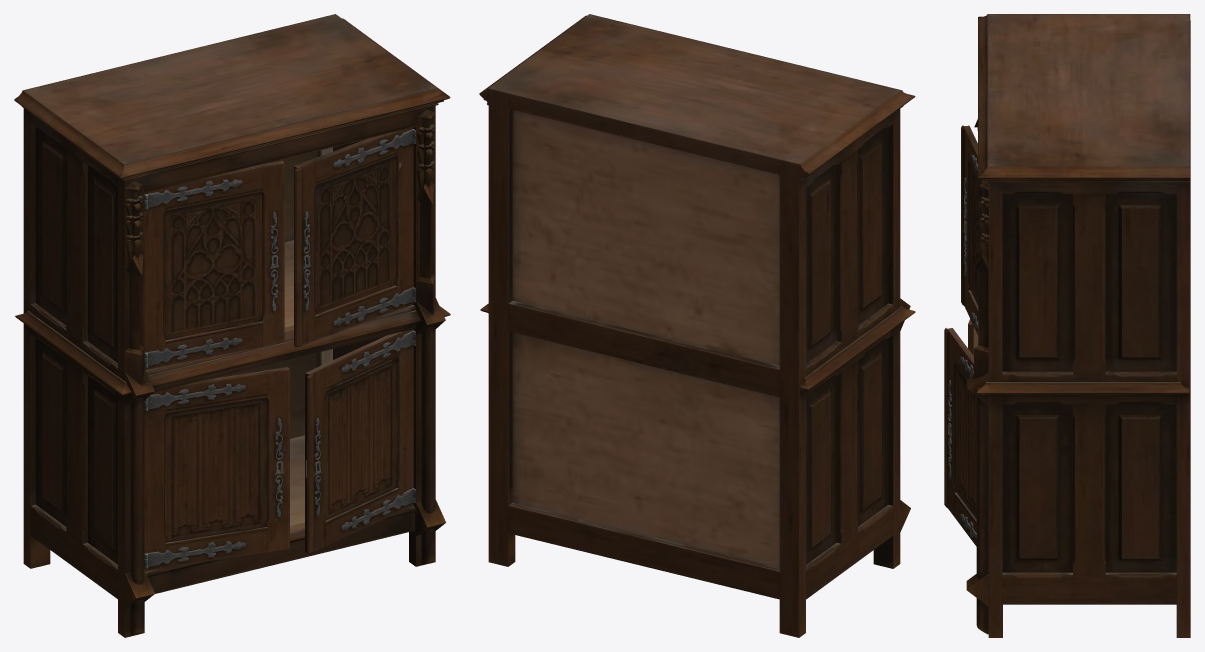
File: GothicCabinet_01.glb
3 views of the same model, side by side, from view 1: azimuth 30°, elevation 25°; view 2: azimuth 150°, elevation 25°; view 3: azimuth 270°, elevation 25° (orthographic).
Visible parts, largest first — view 1: GothicCabinet_01_cabinet, GothicCabinet_01_door3, GothicCabinet_01_door1, GothicCabinet_01_door2, GothicCabinet_01_door4; view 2: GothicCabinet_01_cabinet; view 3: GothicCabinet_01_cabinet, GothicCabinet_01_door4, GothicCabinet_01_door2.
Boxes of the visible parts, <box> form: GothicCabinet_01_cabinet: <box>14,14,450,637</box>; GothicCabinet_01_door3: <box>144,367,289,571</box>; GothicCabinet_01_door1: <box>144,160,284,369</box>; GothicCabinet_01_door2: <box>294,127,415,347</box>; GothicCabinet_01_door4: <box>305,329,415,554</box>; GothicCabinet_01_cabinet: <box>479,14,915,637</box>; GothicCabinet_01_cabinet: <box>966,14,1190,637</box>; GothicCabinet_01_door4: <box>944,328,976,546</box>; GothicCabinet_01_door2: <box>961,125,986,335</box>.
Bounding box in the file's own units: 1.72 × 2.36 × 1.12.
1 material, 1 textured.
